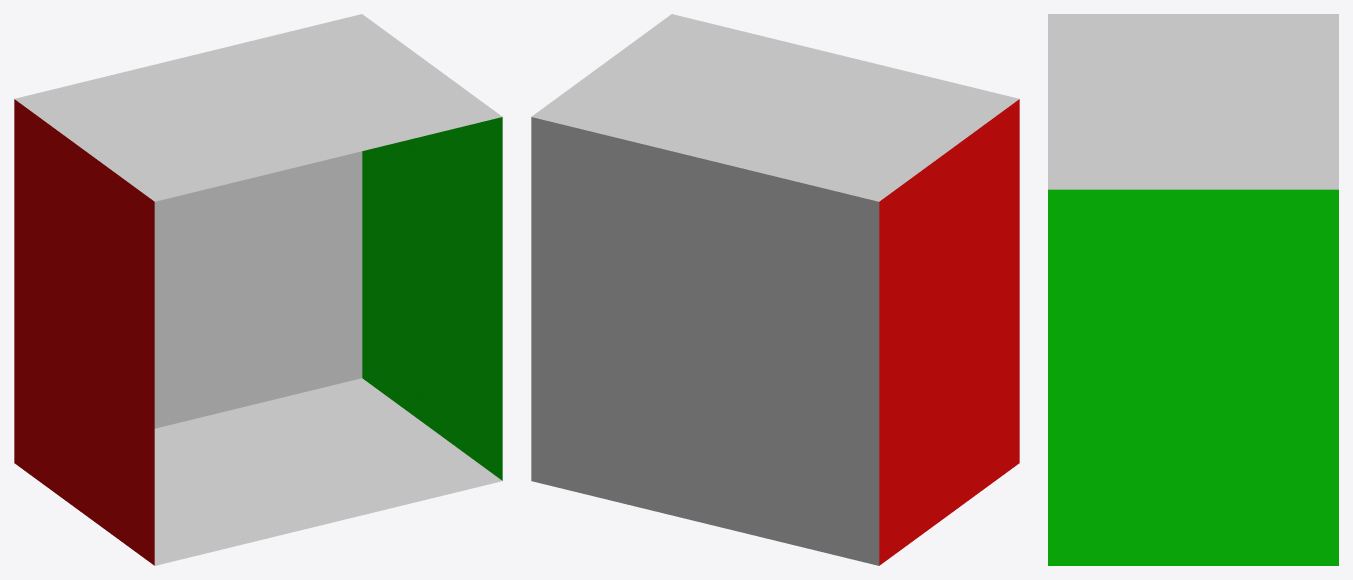
The model's file is cornellbox.obj.
3 views of the same model, side by side, from view 1: azimuth 30°, elevation 25°; view 2: azimuth 150°, elevation 25°; view 3: azimuth 270°, elevation 25° (orthographic). The views are drawn at different scales.
Visible parts, largest first — view 1: box; view 2: box; view 3: box.
Boxes of the visible parts, x1,y1,x2,y2 form: box: [14, 14, 502, 565]; box: [531, 14, 1019, 565]; box: [1048, 14, 1338, 565].
Bounding box in the file's own units: 10 × 10 × 7.
